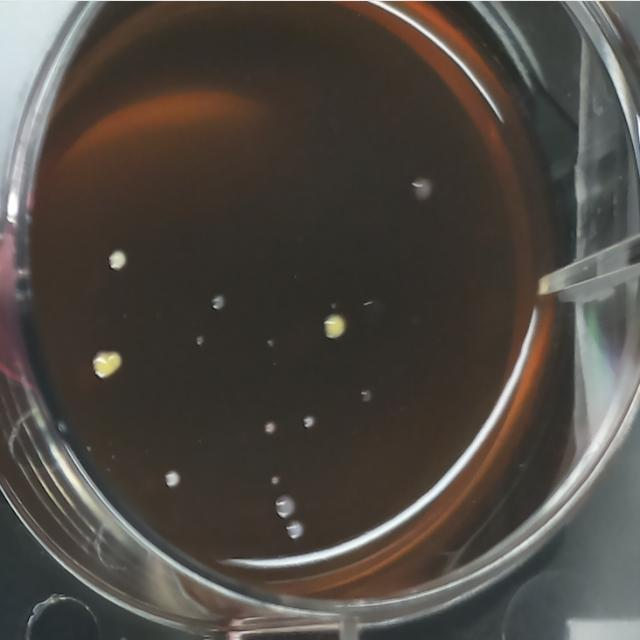Staphylococcus: (90, 345, 124, 384), (320, 311, 350, 343), (106, 247, 130, 275), (163, 466, 183, 492), (300, 413, 317, 434), (262, 417, 278, 438), (270, 473, 281, 488)
